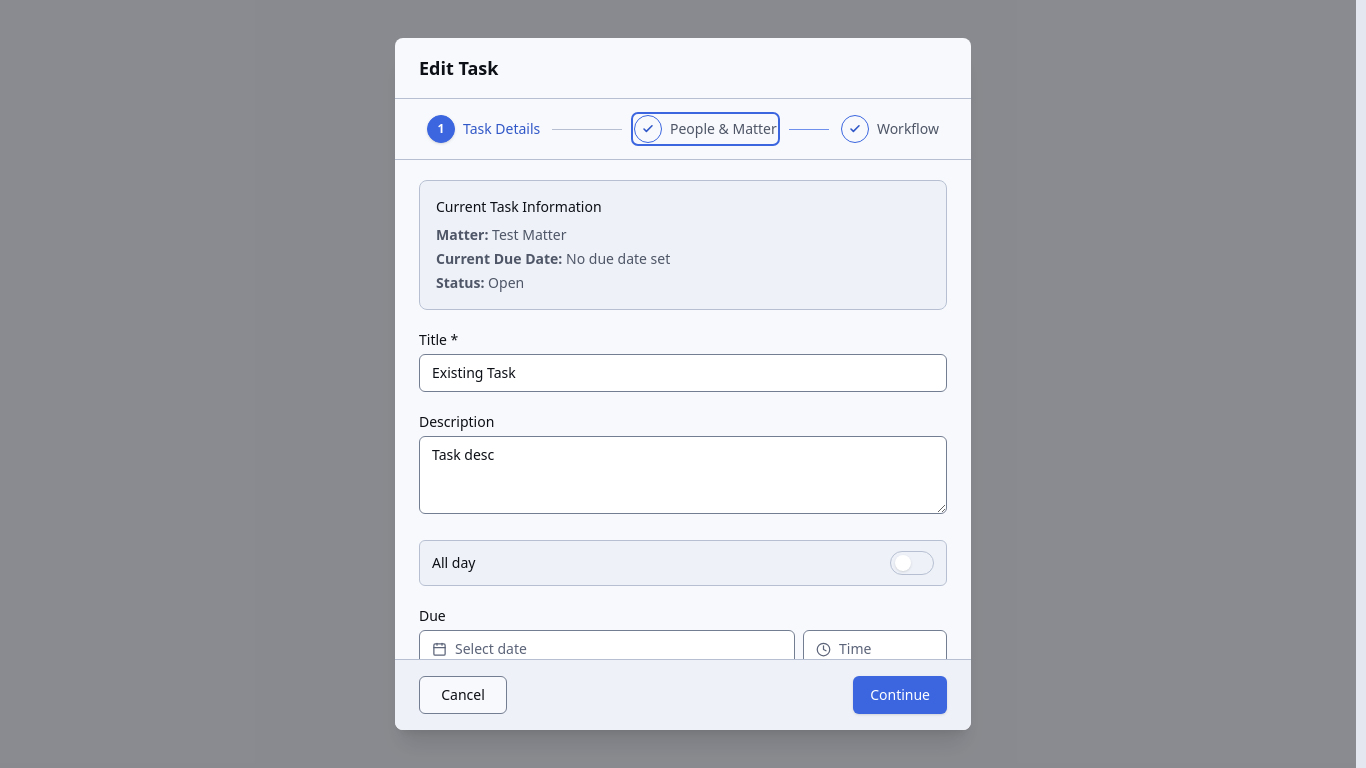
Test: EditTaskModal: where a failed save is reported › shows the error in the footer, beside Save Changes
Click the button "Continue" at (900, 695), box x1=853 y1=676 x2=947 y2=714
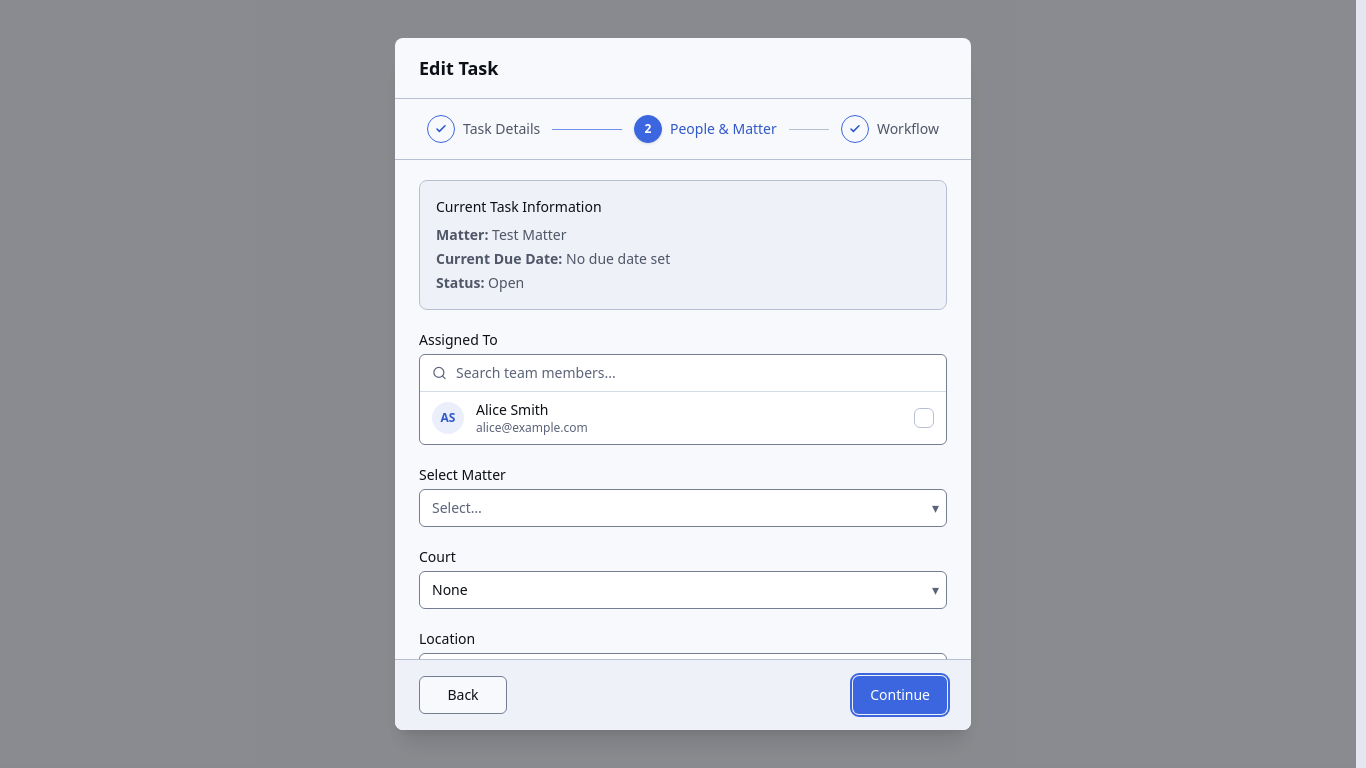
Click the button "Continue" at (900, 695), box x1=853 y1=676 x2=947 y2=714
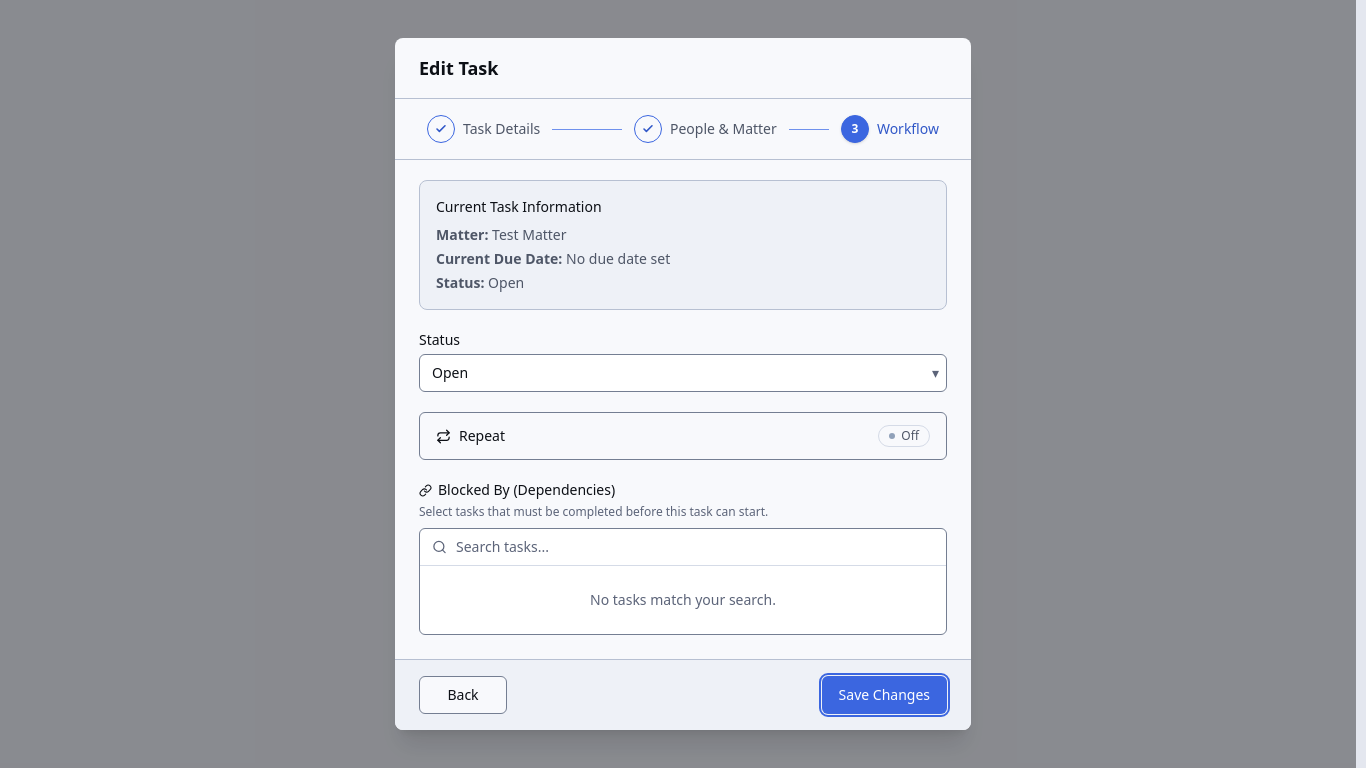
Click the button "Save Changes" at (884, 695), box x1=822 y1=676 x2=947 y2=714
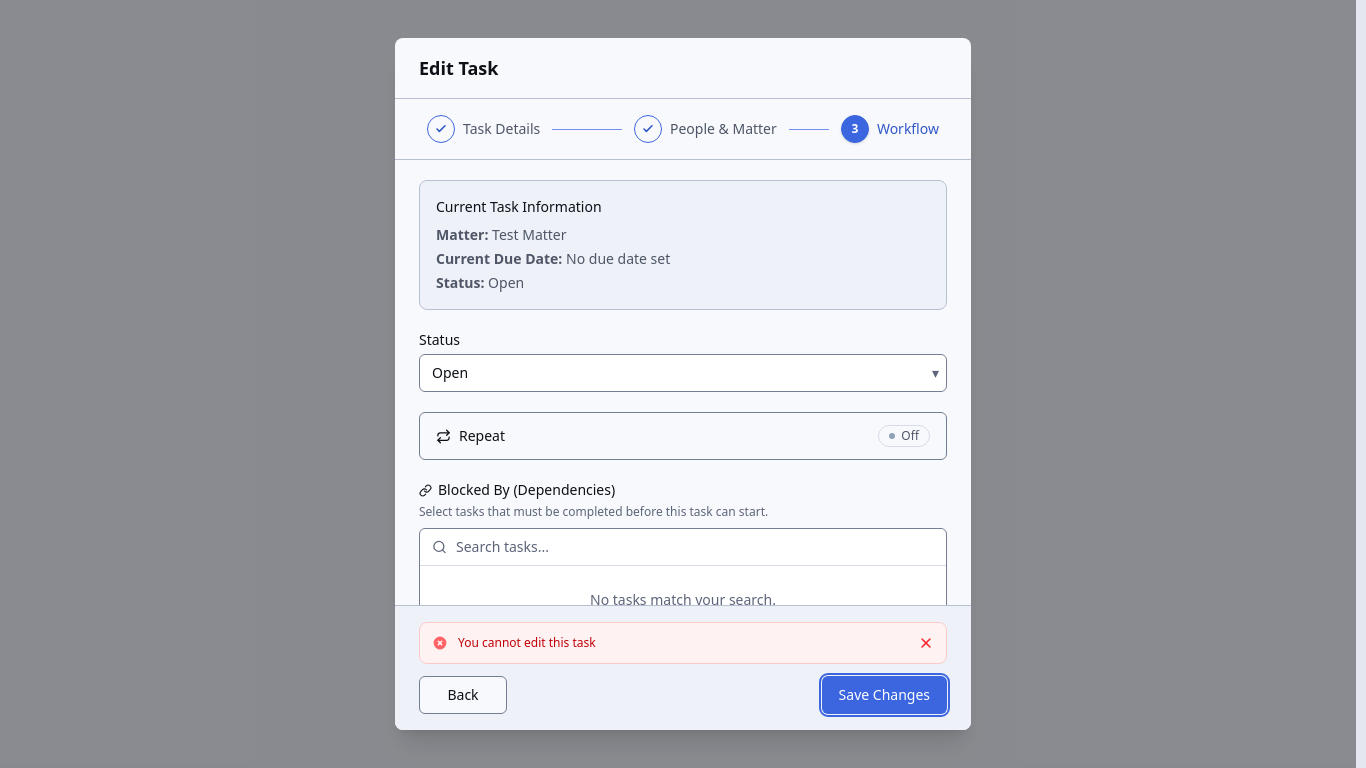
Result: the message reads "You cannot edit this task" at x1=458 y1=634 x2=596 y2=651
